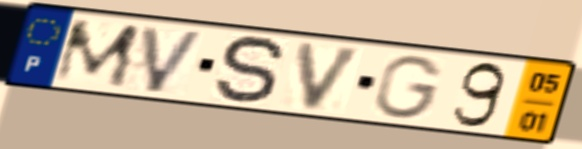9: (449, 60, 509, 130)
G: (371, 53, 448, 122)
M: (48, 18, 145, 90)
S: (212, 33, 290, 107)
V: (295, 40, 369, 114), (139, 23, 210, 96)
